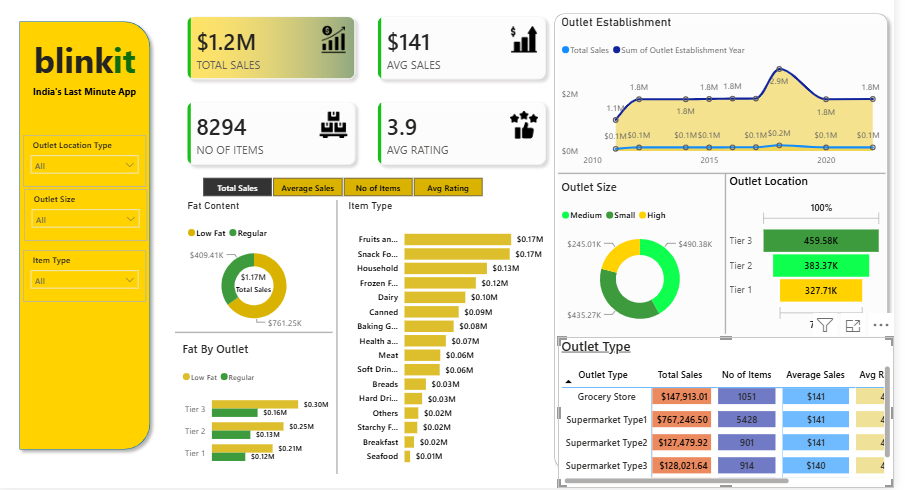

The dashboard page shown, as its layout file describes it:
{"tool":"powerbi","page":{"name":"blinkit_Data","canvas":[1280,720],"ordinal":0},"visuals":[{"type":"shape","box":[21.8,43.7,205,630],"z":0},{"type":"textbox","box":[35.3,70.6,176.4,82.3],"z":1000},{"type":"textbox","box":[35.3,139.4,176.4,26.9],"z":2000},{"type":"cardVisual","fields":{"Data":["BlinkIT Grocery Data.Total Sales","BlinkIT Grocery Data.Average Sales","BlinkIT Grocery Data.No of Items","BlinkIT Grocery Data.Avg Rating"]},"box":[241.9,16.8,570,270],"z":3000},{"type":"slicer","fields":{"Values":["Metrics.Metrics"]},"box":[266.5,269.3,449.3,39.7],"z":4000},{"type":"donutChart","title":"Fat Content","fields":{"Y":["BlinkIT Grocery Data.Total Sales"],"Category":["BlinkIT Grocery Data.Item Fat Content"]},"box":[265,309,200,190],"z":5000},{"type":"cardVisual","fields":{"Data":["BlinkIT Grocery Data.Total Sales"]},"box":[310.4,379.8,110,92],"z":6000},{"type":"clusteredBarChart","title":"Fat By Outlet","fields":{"Y":["BlinkIT Grocery Data.Total Sales"],"Category":["BlinkIT Grocery Data.Outlet Location Type"],"Series":["BlinkIT Grocery Data.Item Fat Content"]},"box":[258,510.2,220,190],"z":7000},{"type":"shape","box":[252.3,479.1,225.4,38.3],"z":8000},{"type":"shape","box":[477.6,309,14.2,391.2],"z":9000},{"type":"barChart","title":"Item Type","fields":{"Y":["BlinkIT Grocery Data.Total Sales"],"Category":["BlinkIT Grocery Data.Item Type"]},"box":[496.1,309,289,388],"z":10000},{"type":"shape","box":[785.2,32.6,494.6,667.6],"z":11000},{"type":"lineChart","title":"Outlet Establishment ","fields":{"Y":["BlinkIT Grocery Data.Total Sales","Sum(BlinkIT Grocery Data.Outlet Establishment Year)"],"Category":["BlinkIT Grocery Data.Outlet Establishment Year"]},"box":[799.4,43.9,467.7,225.4],"z":12000},{"type":"shape","box":[799.4,250.9,467.7,38.3],"z":13000},{"type":"donutChart","title":"Outlet Size","fields":{"Category":["BlinkIT Grocery Data.Outlet Size"],"Y":["BlinkIT Grocery Data.Total Sales"]},"box":[799.4,279.2,233.9,225.4],"z":14000},{"type":"shape","box":[1033.2,269.3,12.8,229.6],"z":15000},{"type":"funnel","title":" Outlet Location","fields":{"Y":["Sum(BlinkIT Grocery Data.Sales)"],"Category":["BlinkIT Grocery Data.Outlet Location Type"]},"box":[1040.3,270.7,228.2,232.4],"z":16000},{"type":"pivotTable","title":"Outlet Type","fields":{"Rows":["BlinkIT Grocery Data.Outlet Type"],"Values":["BlinkIT Grocery Data.Total Sales","BlinkIT Grocery Data.No of Items","BlinkIT Grocery Data.Average Sales","BlinkIT Grocery Data.Avg Rating","Sum(BlinkIT Grocery Data.Item Visibility)"]},"box":[799.4,504.6,480.5,215.4],"z":17000},{"type":"slicer","fields":{"Values":["BlinkIT Grocery Data.Outlet Location Type"]},"box":[35.4,215.4,175.7,73.7],"z":18000},{"type":"slicer","fields":{"Values":["BlinkIT Grocery Data.Outlet Size"]},"box":[36.9,293.4,175.7,73.7],"z":19000},{"type":"slicer","fields":{"Values":["BlinkIT Grocery Data.Item Type"]},"box":[35.4,379.8,175.7,73.7],"z":20000}]}

Visuals, with their boxes on the page's 1280x720 design canvas (x1, y1, x2, y2). These are canvas units, not pixel positions in the 905x490 screenshot, which may show the page scaled, cropped or inside an application window:
shape: locate(22, 44, 227, 674)
textbox: locate(35, 71, 212, 153)
textbox: locate(35, 139, 212, 166)
cardVisual - BlinkIT Grocery Data.Total Sales x BlinkIT Grocery Data.Average Sales: locate(242, 17, 812, 287)
slicer - Metrics.Metrics: locate(266, 269, 716, 309)
"Fat Content" donutChart: locate(265, 309, 465, 499)
cardVisual - BlinkIT Grocery Data.Total Sales: locate(310, 380, 420, 472)
"Fat By Outlet" clusteredBarChart: locate(258, 510, 478, 700)
shape: locate(252, 479, 478, 517)
shape: locate(478, 309, 492, 700)
"Item Type" barChart: locate(496, 309, 785, 697)
shape: locate(785, 33, 1280, 700)
"Outlet Establishment " lineChart: locate(799, 44, 1267, 269)
shape: locate(799, 251, 1267, 289)
"Outlet Size" donutChart: locate(799, 279, 1033, 505)
shape: locate(1033, 269, 1046, 499)
" Outlet Location" funnel: locate(1040, 271, 1268, 503)
"Outlet Type" pivotTable: locate(799, 505, 1280, 720)
slicer - BlinkIT Grocery Data.Outlet Location Type: locate(35, 215, 211, 289)
slicer - BlinkIT Grocery Data.Outlet Size: locate(37, 293, 213, 367)
slicer - BlinkIT Grocery Data.Item Type: locate(35, 380, 211, 454)
